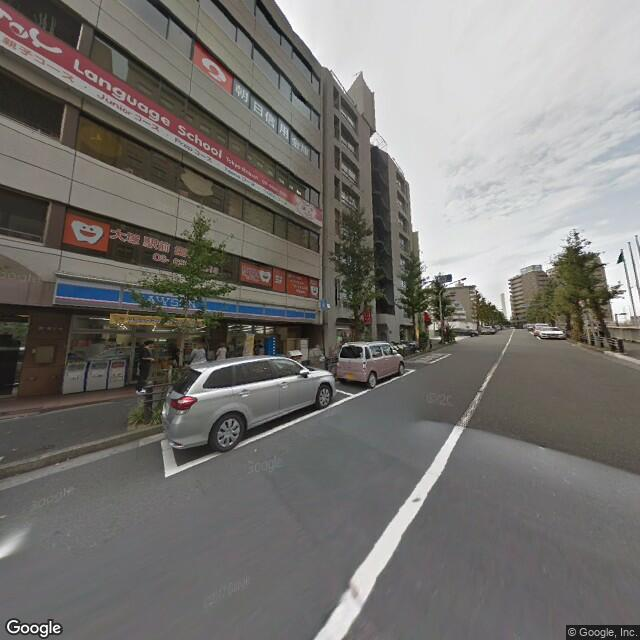lawson: (53, 274, 318, 329)
